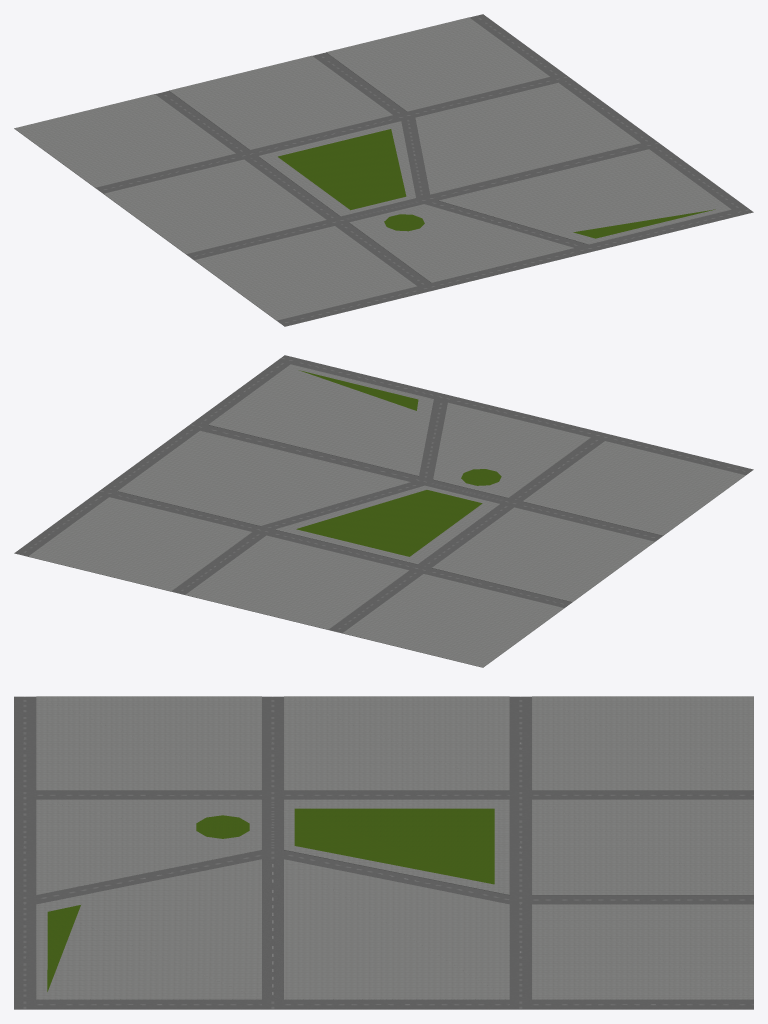
File: ground5.FBX
3 views of the same model, one above another, from view 1: azimuth 30°, elevation 25°; view 2: azimuth 150°, elevation 25°; view 3: azimuth 270°, elevation 25° (orthographic). The views are drawn at different scales.
Parts seen in each view (by area): view 1: ground5_LOD0; view 2: ground5_LOD0; view 3: ground5_LOD0.
Boxes of the visible parts, left/top/right/bottom form: ground5_LOD0: left=14, top=14, right=753, bottom=326; ground5_LOD0: left=14, top=355, right=753, bottom=667; ground5_LOD0: left=14, top=696, right=753, bottom=1009.
Size of what is drawn, in the model's own units: 200 by 0.1318 by 200.
